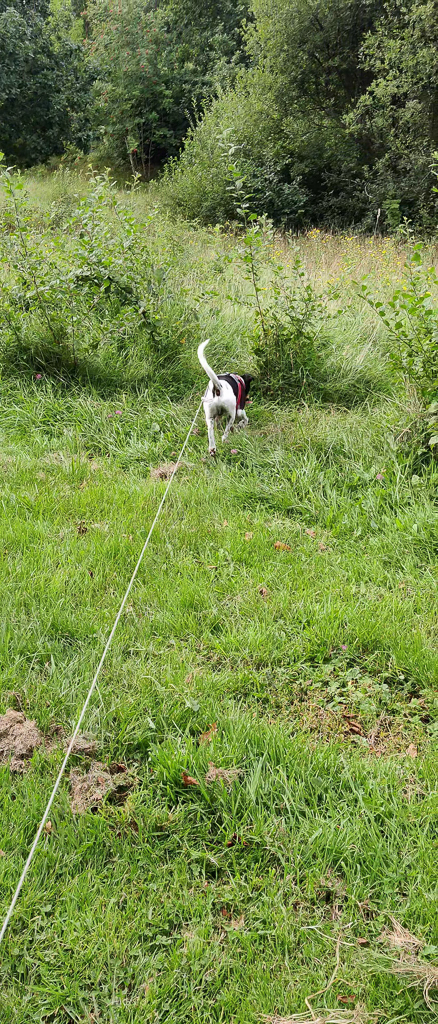Dog: (190, 336, 262, 458)
